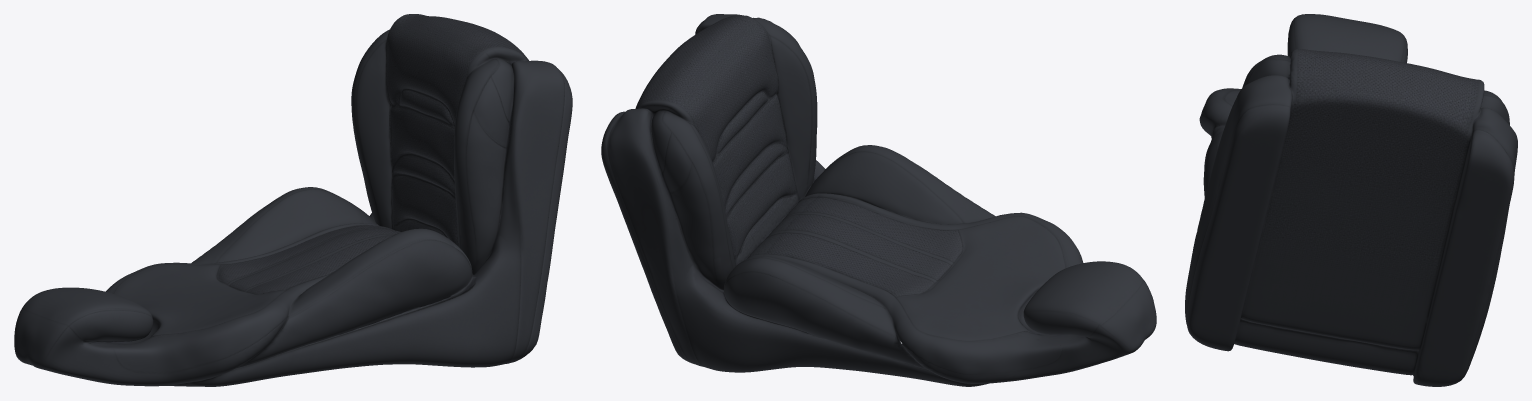
The model's file is car seat 3d model (2)-20260728-115007.glb.
3 views of the same model, side by side, from view 1: azimuth 30°, elevation 25°; view 2: azimuth 150°, elevation 25°; view 3: azimuth 270°, elevation 25° (orthographic). The views are drawn at different scales.
Parts seen in each view (by area): view 1: tripo_node_8f9ea416; view 2: tripo_node_8f9ea416; view 3: tripo_node_8f9ea416.
Part boxes in pixels (left/top/right/bottom): tripo_node_8f9ea416: left=14, top=14, right=572, bottom=386; tripo_node_8f9ea416: left=601, top=14, right=1156, bottom=386; tripo_node_8f9ea416: left=1185, top=14, right=1517, bottom=386.
Size of the model in its own units: 2.27 by 1.36 by 1.19.
Materials: 1 (1 with a texture image).
